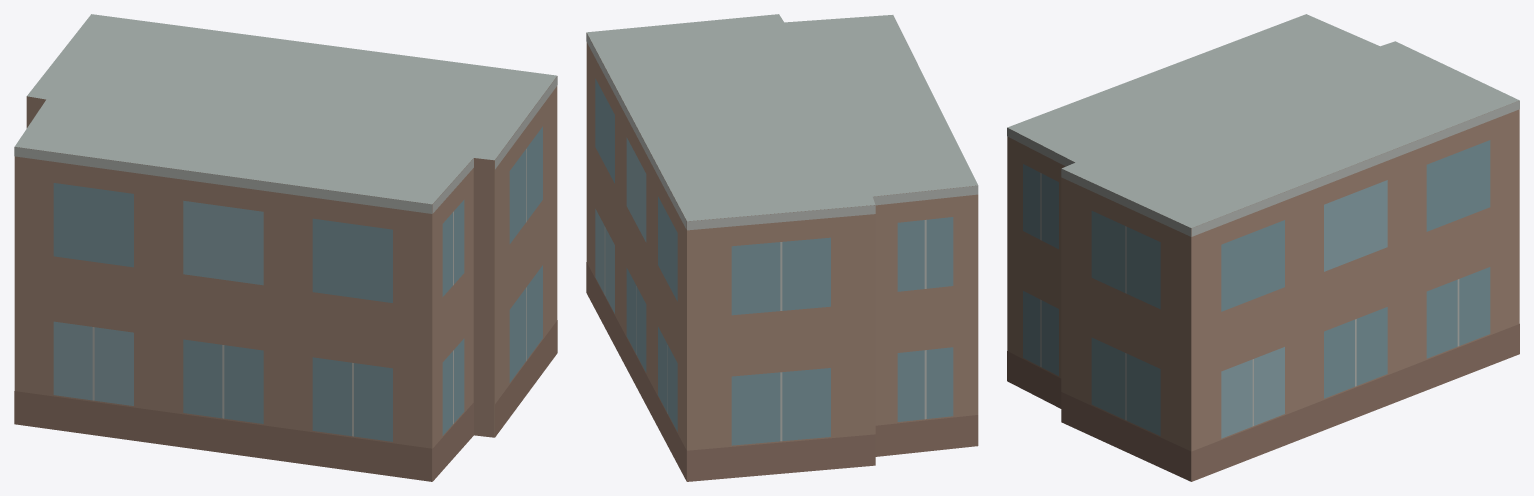
The model's file is survey-upis-32688559.glb.
3 renders of one model, left to right at view 1: azimuth 30°, elevation 25°; view 2: azimuth 150°, elevation 25°; view 3: azimuth 270°, elevation 25°, orthographic. The views are drawn at different scales.
Visible parts, largest first — view 1: survey-upis-32688559.tmp; view 2: survey-upis-32688559.tmp; view 3: survey-upis-32688559.tmp.
Boxes of the visible parts, x1,y1,x2,y2 form: survey-upis-32688559.tmp: (14,14,557,481); survey-upis-32688559.tmp: (586,14,978,481); survey-upis-32688559.tmp: (1007,14,1519,481).
Size of the model in its own units: 12.68 by 7 by 12.83.
